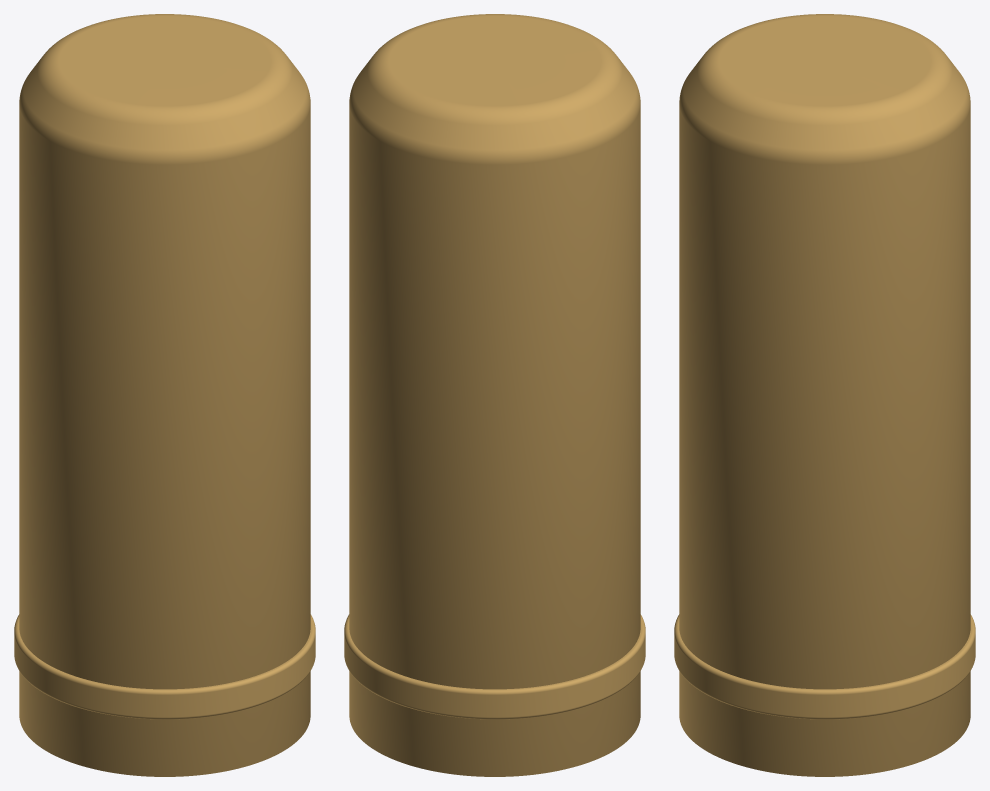
File: lipstick-cap.glb
3 renders of one model, left to right at view 1: azimuth 30°, elevation 25°; view 2: azimuth 150°, elevation 25°; view 3: azimuth 270°, elevation 25°, orthographic.
Visible parts, largest first — view 1: cap, band; view 2: cap, band; view 3: cap, band.
Part boxes in pixels (box(x1,y1,x2,y2)): cap: box(19, 14, 310, 776); band: box(14, 614, 315, 719); cap: box(349, 14, 640, 776); band: box(344, 614, 645, 719); cap: box(679, 14, 970, 776); band: box(674, 614, 975, 719).
Bounding box in the file's own units: 0.234 × 0.56 × 0.234.
